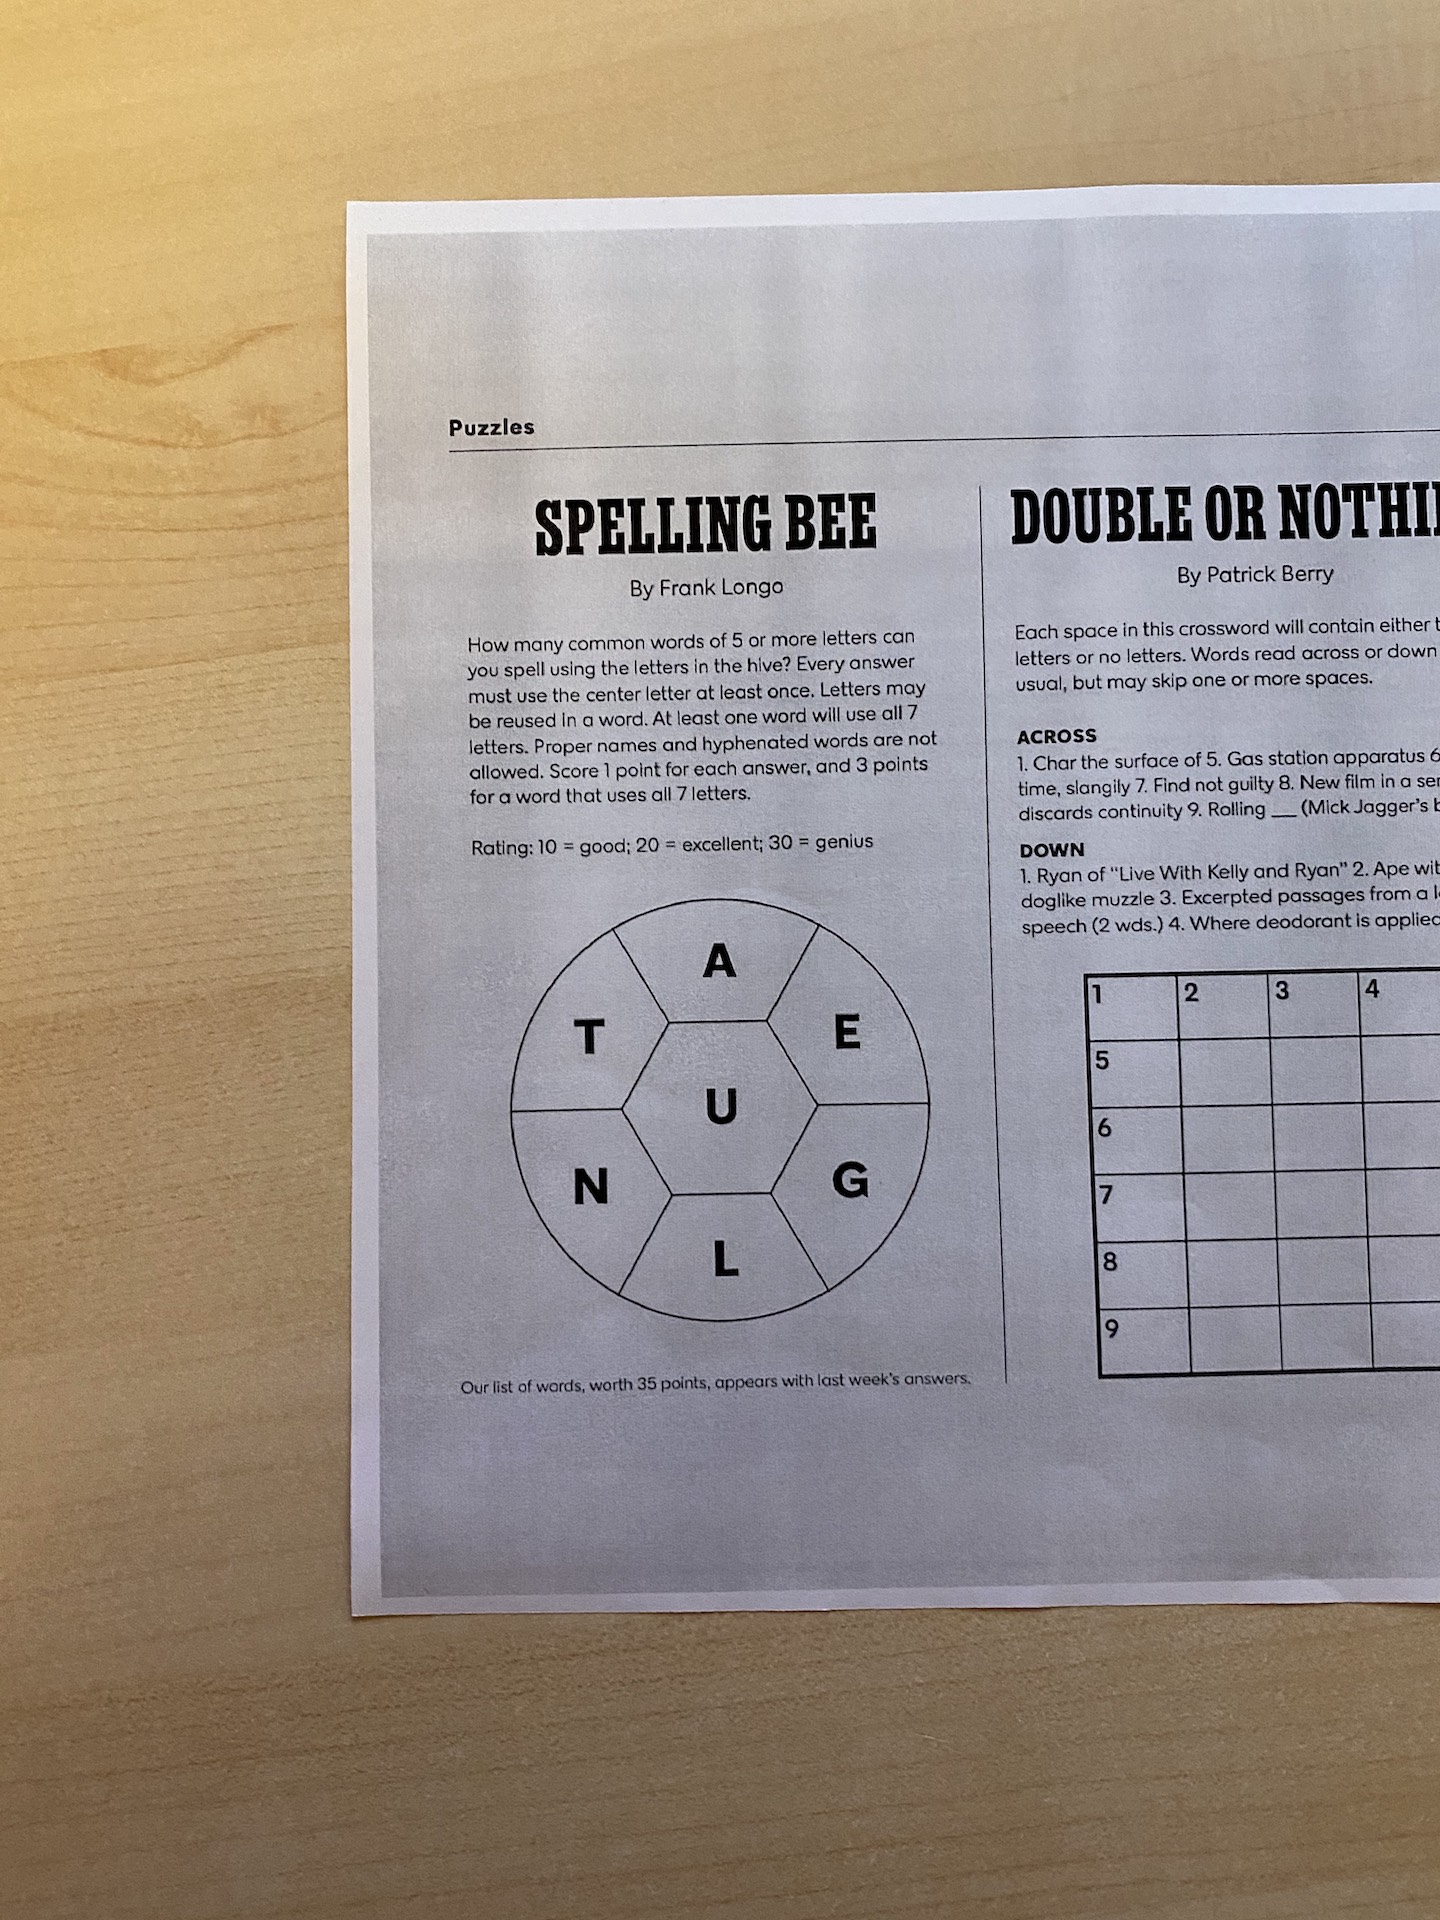Board: (492, 889, 945, 1342)
